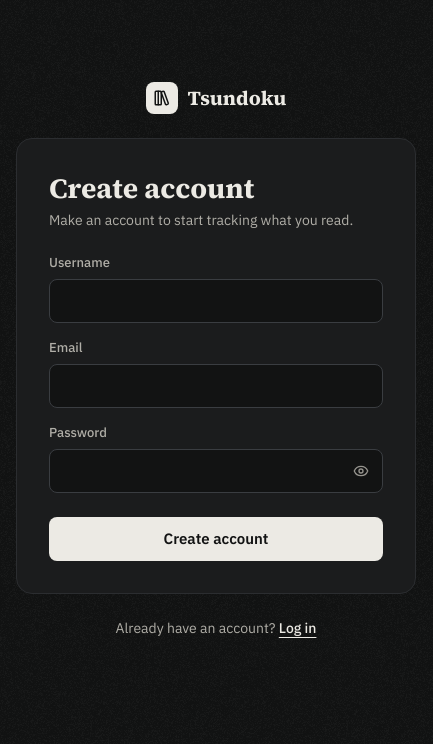
Test: RegisterPage › keeps password focus when submitting from the password field with form errors
The image size is (433, 744).
Click the password field labelled "Password": (216, 471) [49,449,383,493]
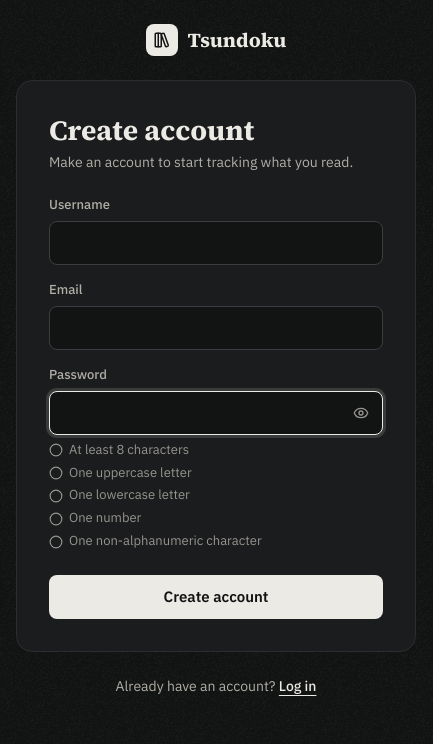
In the password field labelled "Password": (216, 413) [49,391,383,435], type "weak"
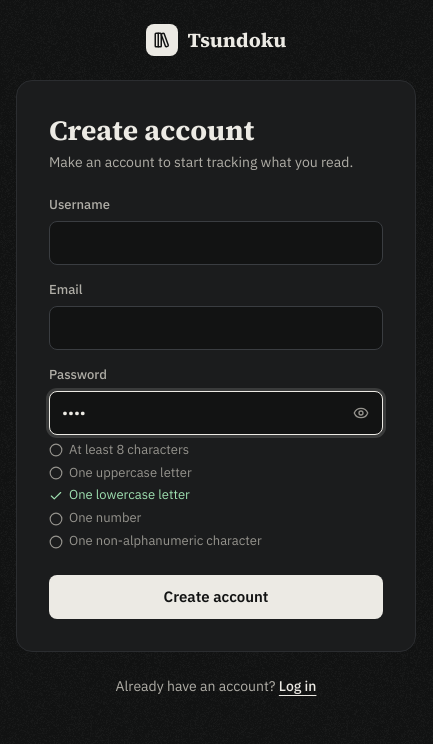
Click the button "Create account": (216, 597) [49,575,383,619]
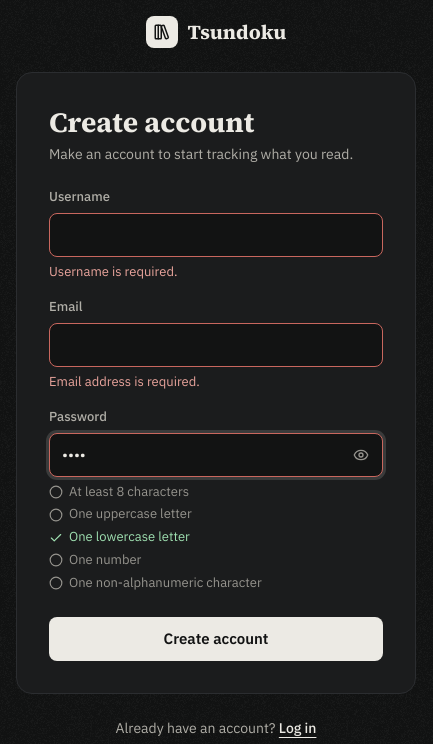
Expected: the list item with aria-label "Missing: At least 8 characters" is shown, [49,482,189,500]
Expected: the text "Username is required." is shown, [49,263,178,280]
Expected: the text "Email address is required." is shown, [49,373,200,390]
